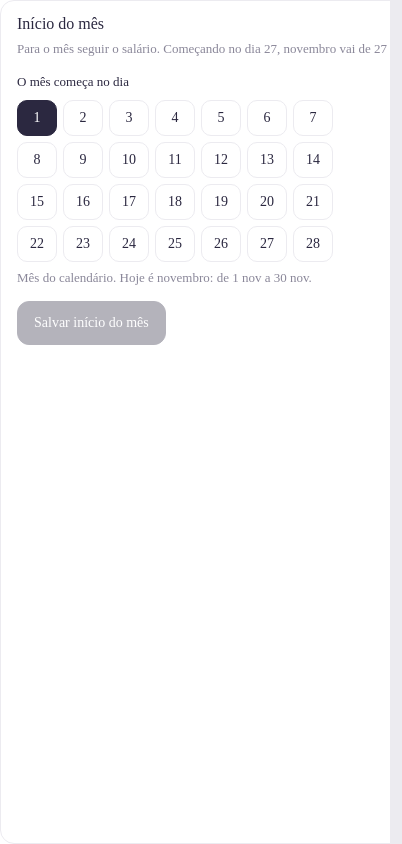
Test: month start day › picks a day, previews it and saves it
Check: the button "Salvar início do mês" is disabled, box [17, 301, 166, 345]
Click the radio button with test id "month-start-27": [267, 244] box [247, 226, 287, 262]
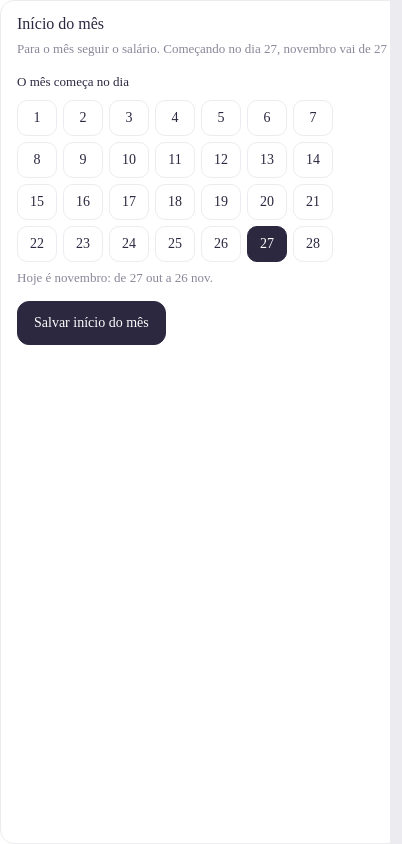
Check: the text "Hoje é novembro: de 27 out a 26 nov." is shown, box [17, 270, 213, 285]
Click the button "Salvar início do mês": [91, 323] box [17, 301, 166, 345]
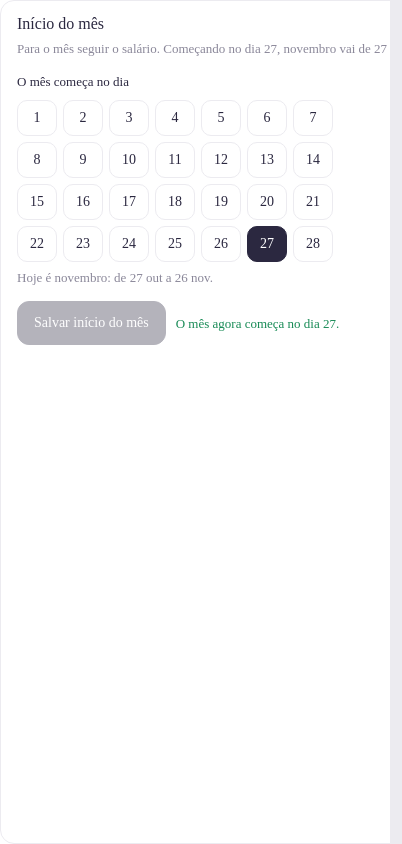
Check: the text "O mês agora começa no dia 27." is shown, box [176, 314, 339, 332]
